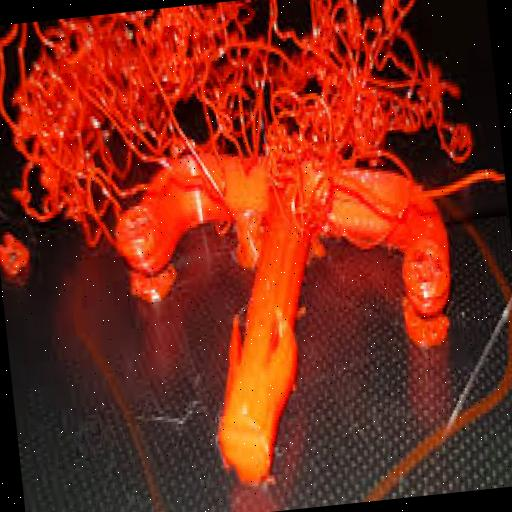spaghetti: (0, 0, 489, 262)
